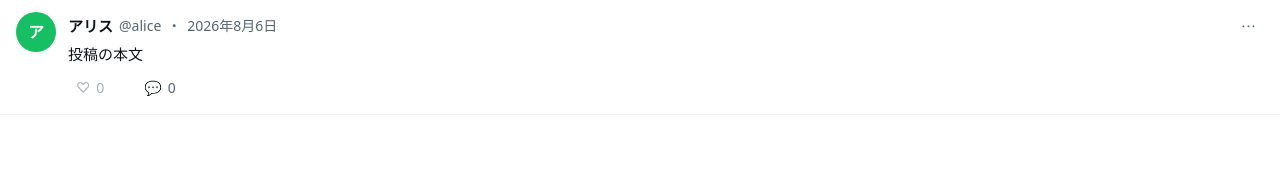
Scenario: PostCard › 削除に失敗したらエラーを出す
Click the button named "投稿メニュー" at (1248, 26), box [1233, 12, 1264, 40]
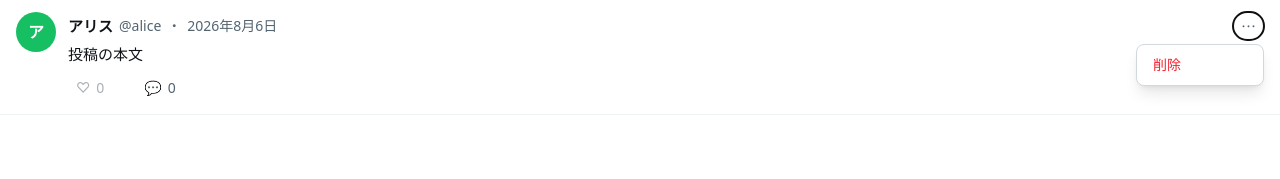
Click the button "削除" at (1200, 65), box [1137, 45, 1263, 85]
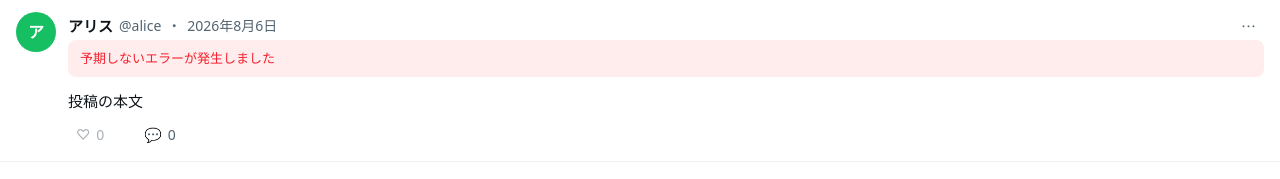
Now the message "予期しないエラーが発生しました" is shown, box [68, 40, 1264, 77]
